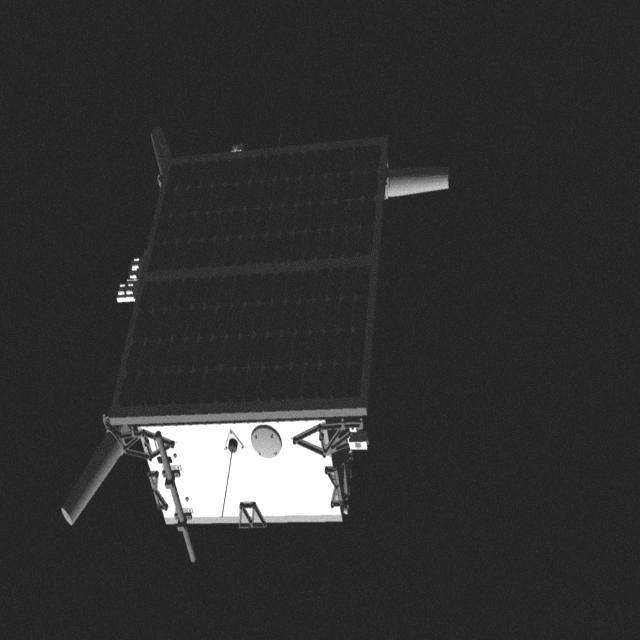medium_debris: (52, 108, 452, 572)
